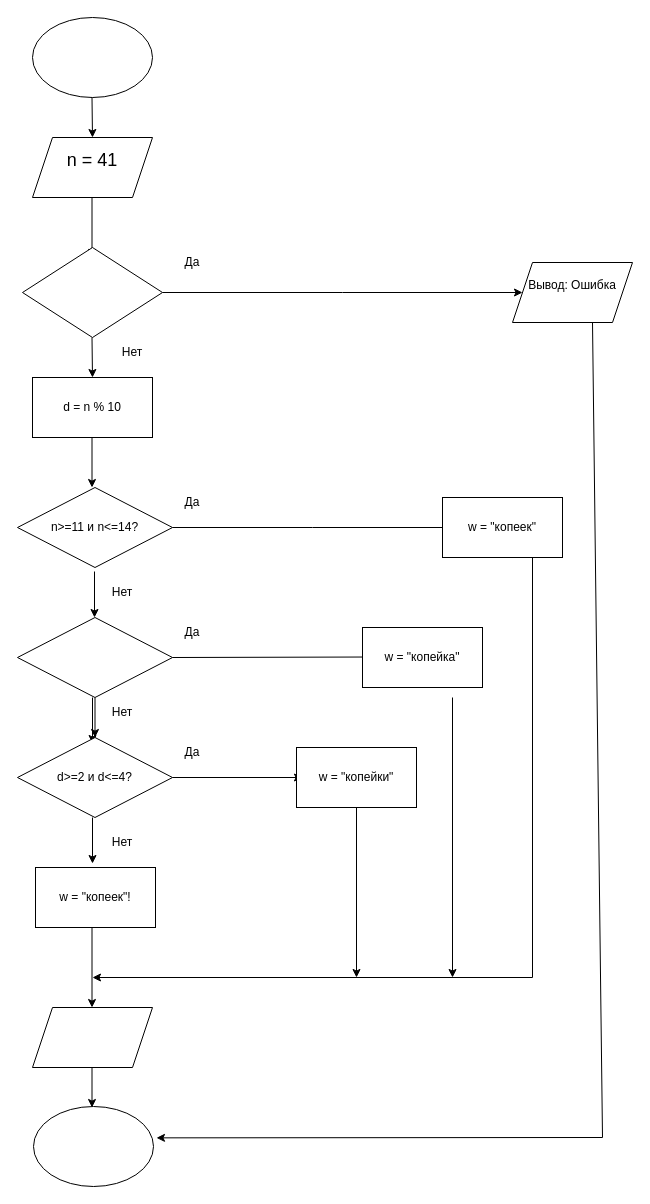
Some shapes in this 650 by 1204 pixel diagram are drawn without their labels. Here are the shapes that lost their labels. From the top down, the centre of each, then its label:
At pixel 92 57: "Начало".
At pixel 92 292: "n<1 или n>99?".
At pixel 94 657: "d == 1?".
At pixel 92 1037: "Вывод n, w".
At pixel 93 1146: "Конец".
